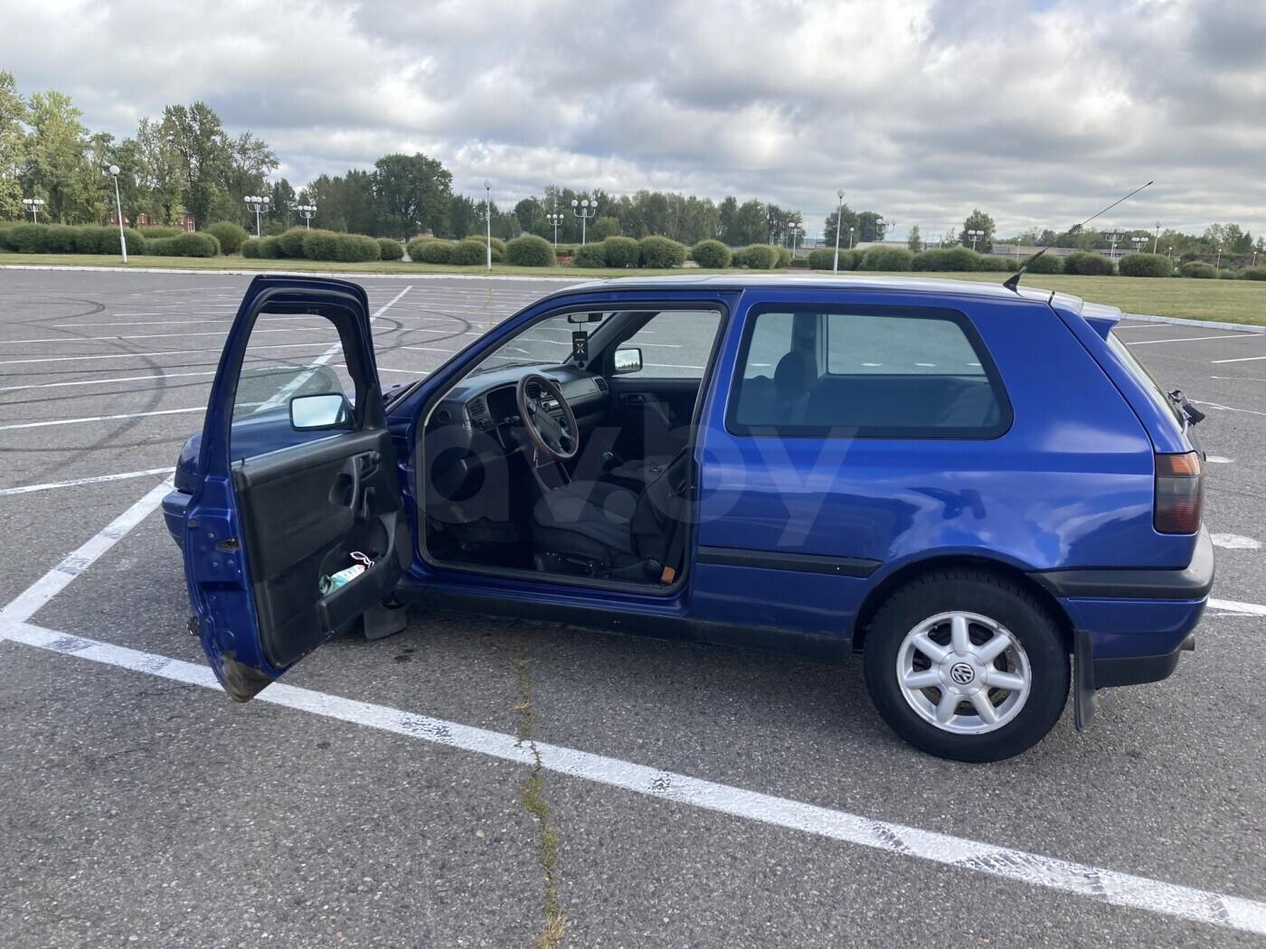Golf_1991-2000: (161, 270, 1220, 767)
